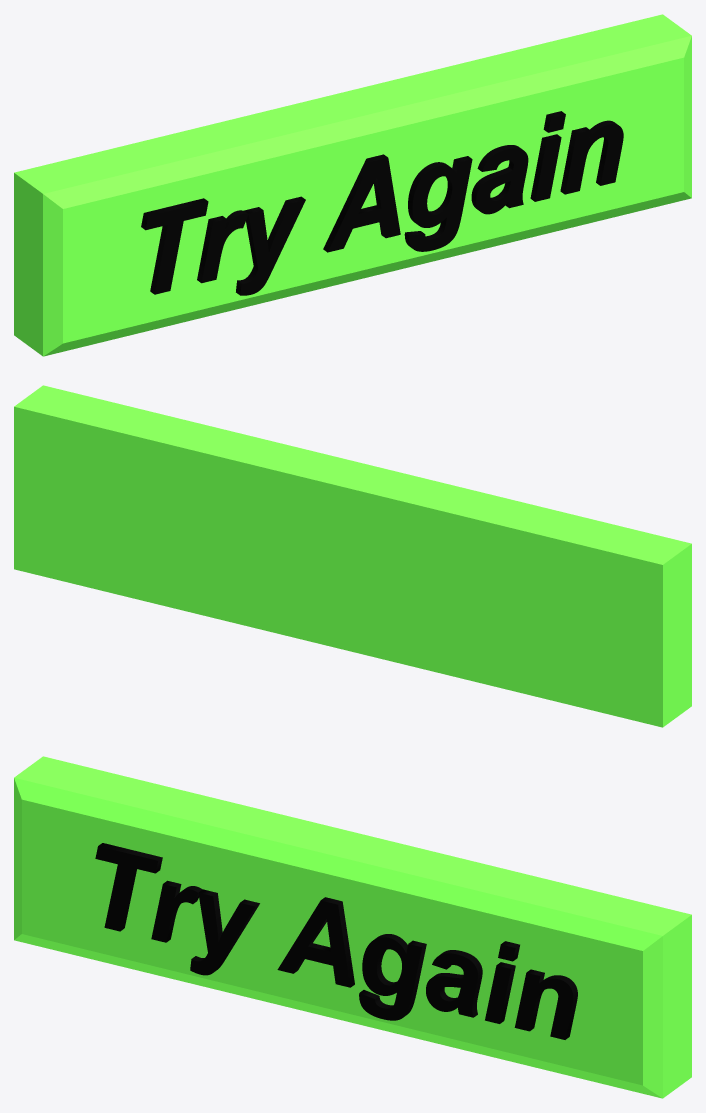
The model's file is Try_Again_Button.fbx.
The picture shows the model from 3 angles, top to bottom: view 1: azimuth 30°, elevation 25°; view 2: azimuth 150°, elevation 25°; view 3: azimuth 330°, elevation 25°; orthographic projection.
Visible parts, largest first — view 1: TryAgain_button; view 2: TryAgain_button; view 3: TryAgain_button.
Boxes of the visible parts, x1,y1,x2,y2 form: TryAgain_button: (14, 14, 691, 356); TryAgain_button: (14, 385, 691, 727); TryAgain_button: (14, 756, 691, 1098).
Size of the model in its own units: 786 by 188 by 83.27.
